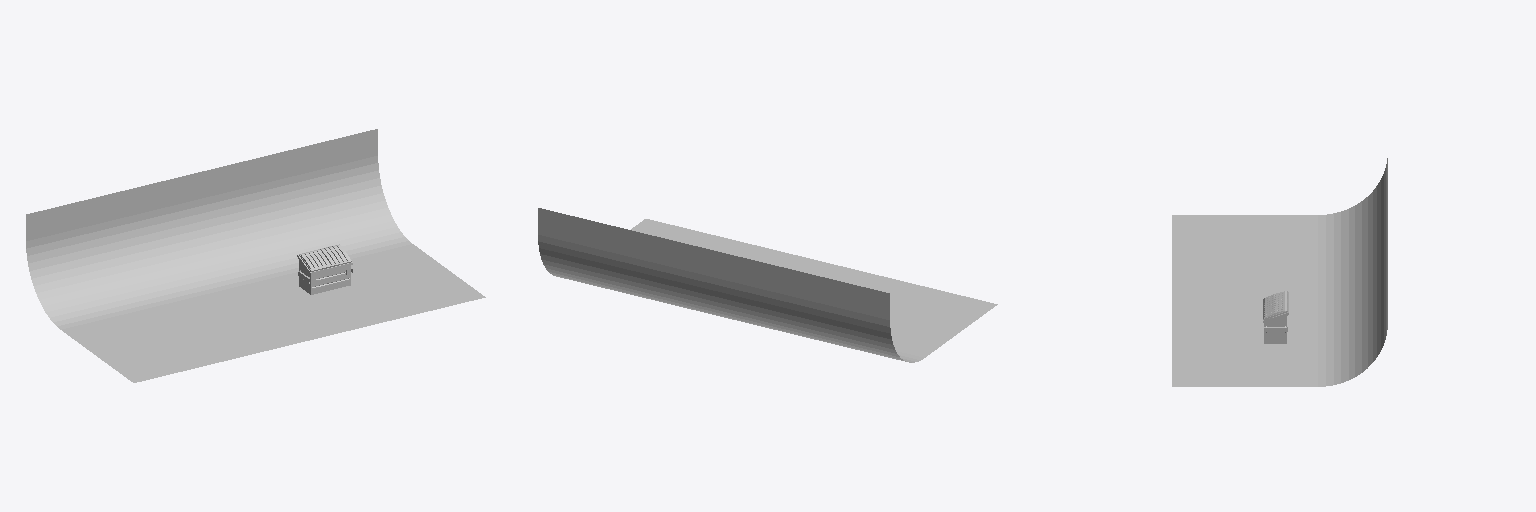
File: uploads_files_3491662_Dumpster.obj
The picture shows the model from 3 angles: view 1: azimuth 30°, elevation 25°; view 2: azimuth 150°, elevation 25°; view 3: azimuth 270°, elevation 25°; orthographic projection.
Visible parts, largest first — view 1: Plane.001, Dumpster_1_Cube.002; view 2: Plane.001; view 3: Plane.001, Dumpster_1_Cube.002.
Part boxes in pixels (left/top/right/bottom): Plane.001: left=26, top=129, right=485, bottom=382; Dumpster_1_Cube.002: left=297, top=244, right=352, bottom=294; Plane.001: left=538, top=208, right=997, bottom=362; Plane.001: left=1172, top=158, right=1387, bottom=386; Dumpster_1_Cube.002: left=1263, top=291, right=1288, bottom=343.
Size of the model in its own units: 35.19 by 8.58 by 18.66.